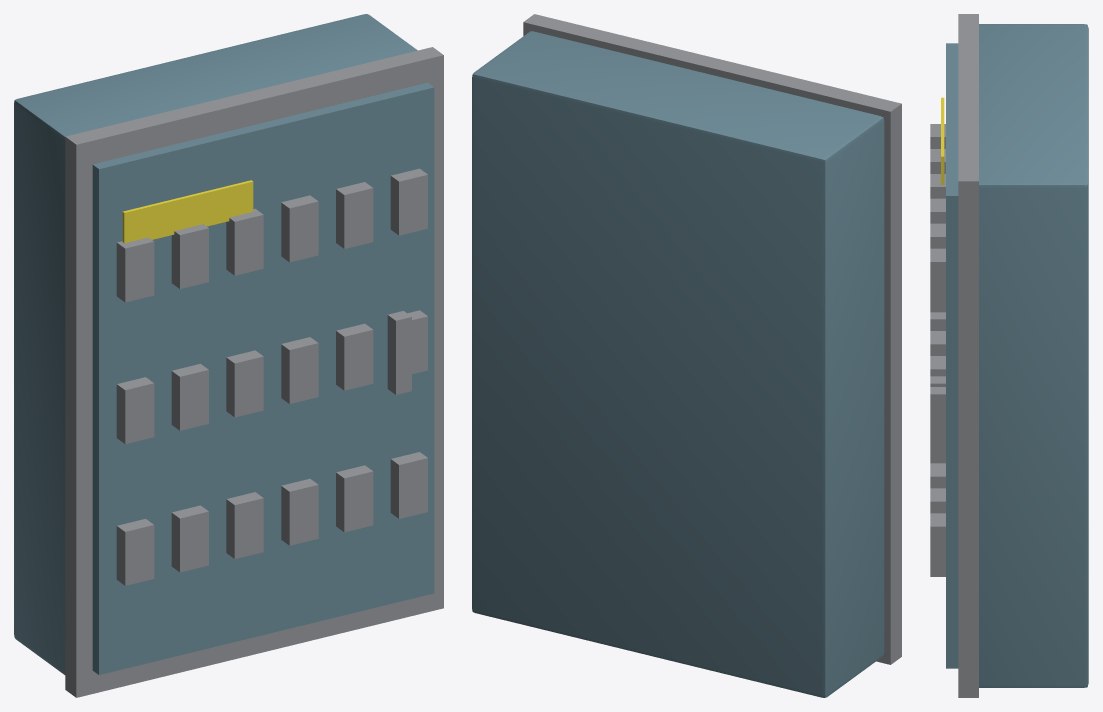
Rendered from PR_electrical_panel.fbx.
3 views of the same model, side by side, from view 1: azimuth 30°, elevation 25°; view 2: azimuth 150°, elevation 25°; view 3: azimuth 270°, elevation 25° (orthographic). The views are drawn at different scales.
Parts seen in each view (by area): view 1: PR_electrical_panel; view 2: PR_electrical_panel; view 3: PR_electrical_panel.
Boxes of the visible parts, box(x1,y1,x2,y2) form: PR_electrical_panel: box(14, 14, 443, 697); PR_electrical_panel: box(472, 14, 901, 697); PR_electrical_panel: box(930, 14, 1088, 697).
Bounding box in the file's own units: 1.14 × 1.64 × 0.455.
